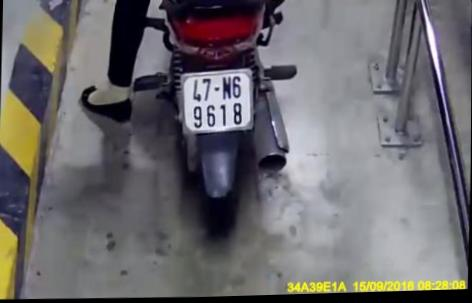LP: (178, 68, 257, 135)
